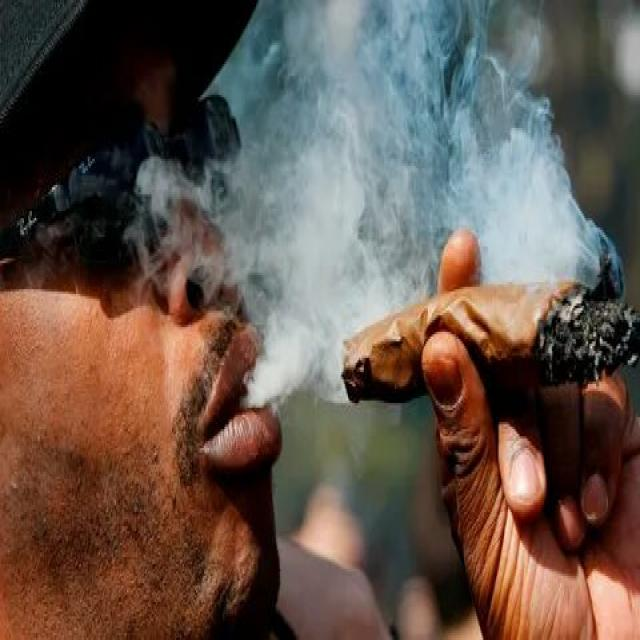cigarette: (334, 251, 640, 410)
